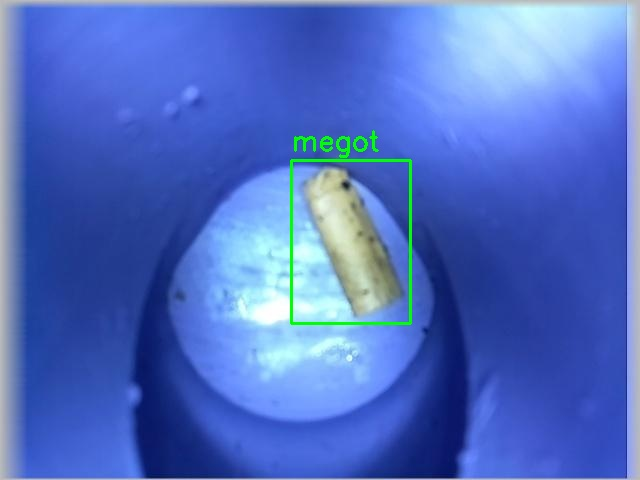megot: (291, 160, 410, 323)
